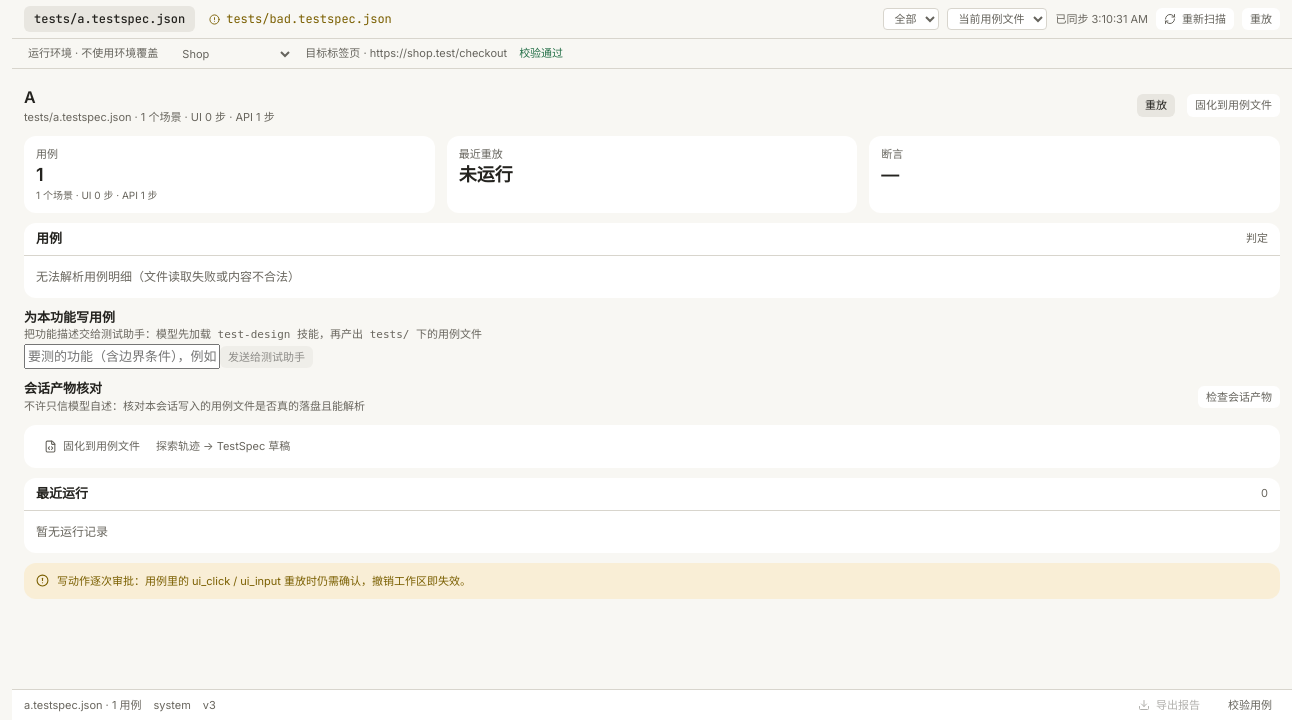
Scenario: TestingView run flow › counts invalid files outside the run scope in coverage columns
The width and height of the screenshot is (1292, 720).
Click the button "重放" in the row of "已同步 3:10:31 AM". click: (1261,19)
box: [1242,8,1280,30]
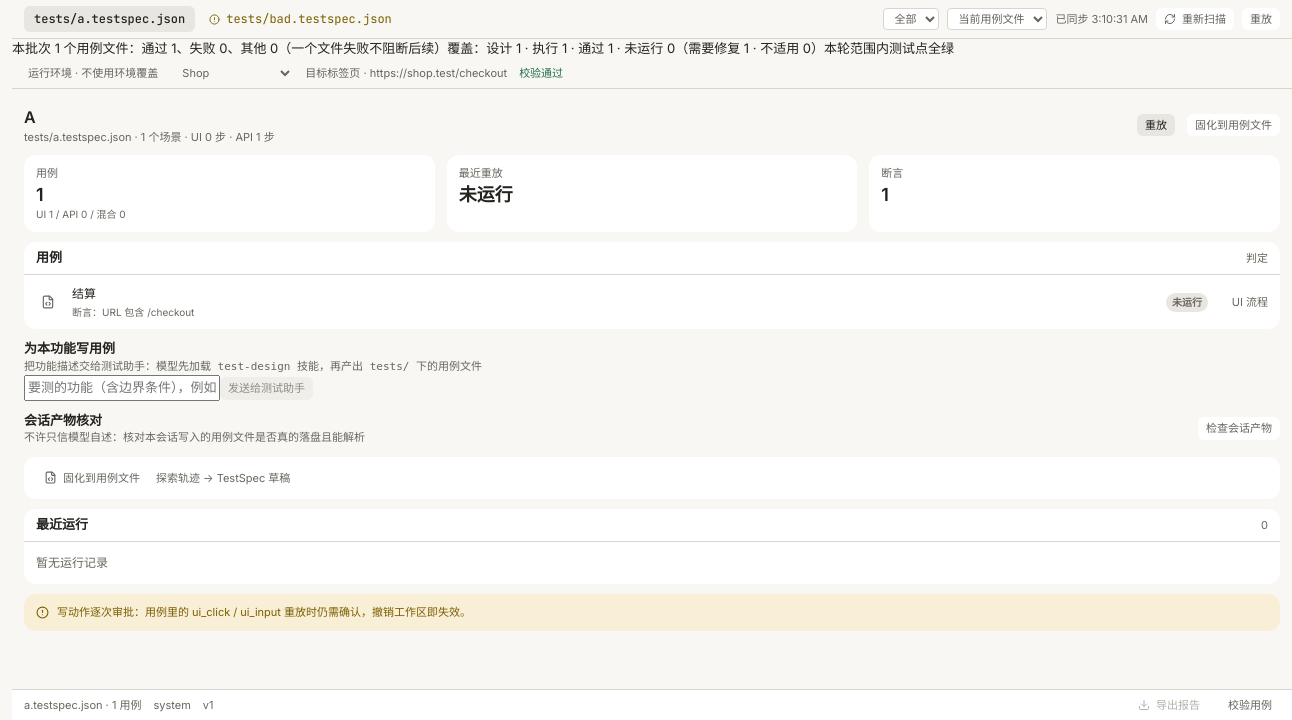
Now the text with test id "testing-coverage" reads "覆盖：设计 1 · 执行 1 · 通过 1 · 未运行 0（需要修复 1 · 不适用 0）", box [447,40,824,56]
